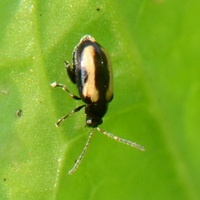insect: (50, 35, 143, 150)
